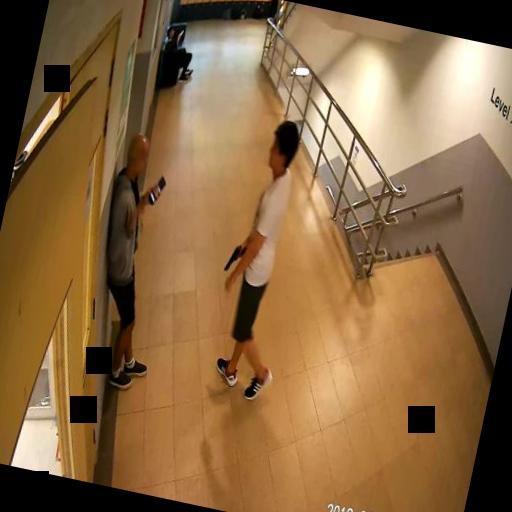Handgun: (222, 240, 245, 271)
